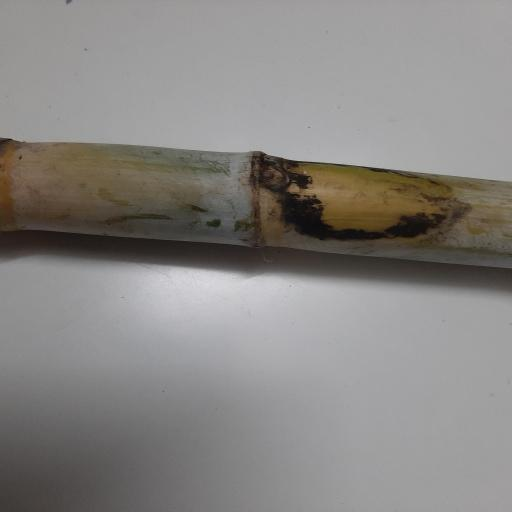Bud: (256, 166, 287, 188)
